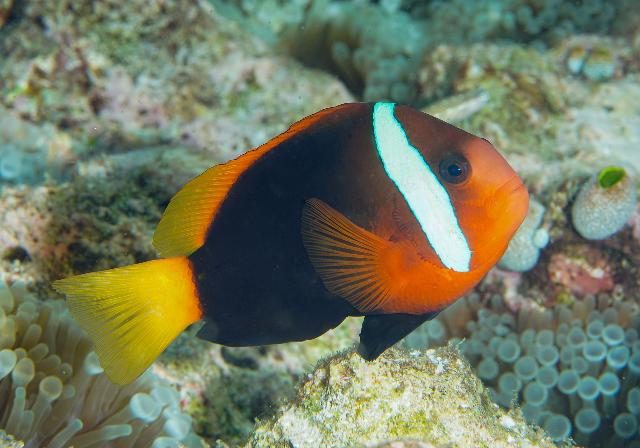Mulut: (478, 152, 550, 232)
Sirip Anal: (193, 310, 344, 366)
Sirip Dada: (292, 185, 418, 322)
Sirip Ekor: (44, 254, 204, 394)
Sirip Perut: (346, 296, 426, 380)
Sirip Punggung: (143, 91, 354, 268)
